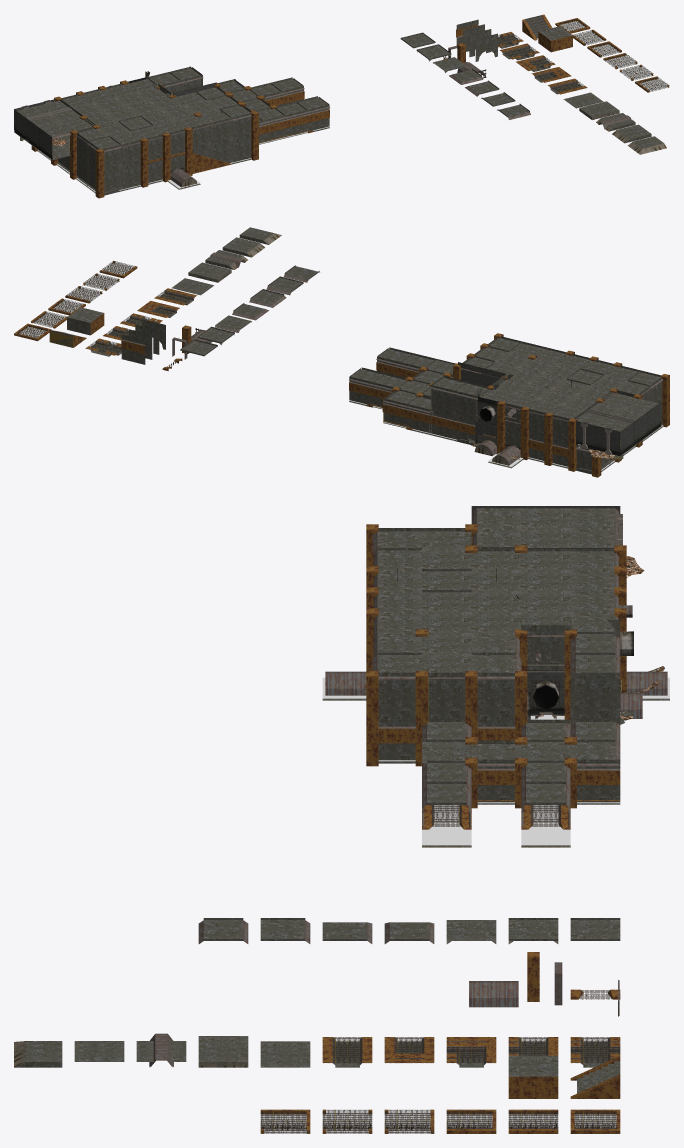
File: ModularSewerKit.fbx_Scene_Scene_Collection.fbx
3 views of the same model, one above another, from view 1: azimuth 30°, elevation 25°; view 2: azimuth 150°, elevation 25°; view 3: azimuth 270°, elevation 25° (orthographic). The views are drawn at different scales.
Visible parts, largest first — view 1: Floor011.001, Wall001.027, Wall002.026, Wall002.023, Wall002.025, Stairs001.001, Wall001.037, Wall001.021, Wall001.041, Wall001.020, Wall003.001, Wall001.028 (+40 smaller); view 2: Floor011.001, Wall002.001, Wall002.008, Wall002.016, Wall002.029, Wall001.011, Wall002.018, Wall001.010, Wall004.011, Wall002.007, Ceiling003.001, Ceiling002.001 (+20 smaller); view 3: Wall001.012, Floor011.001, Wall002.017, Wall002.006, Wall001.014, Wall001.018, Wall001.017, Wall001.019, Wall002.011, Stairs001.001, Floor009.001, PlugWall003.001 (+67 smaller).
Part boxes in pixels (bbox=[...]): Floor011.001: bbox=[538, 26, 572, 52]; Wall001.027: bbox=[209, 117, 231, 145]; Wall002.026: bbox=[263, 115, 285, 143]; Wall002.023: bbox=[285, 110, 307, 138]; Wall002.025: bbox=[307, 104, 329, 132]; Stairs001.001: bbox=[522, 14, 552, 40]; Wall001.037: bbox=[121, 163, 140, 190]; Wall001.021: bbox=[232, 136, 251, 163]; Wall001.041: bbox=[121, 140, 140, 167]; Wall001.020: bbox=[232, 113, 251, 140]; Wall003.001: bbox=[475, 33, 497, 61]; Wall001.028: bbox=[191, 123, 209, 149]; Floor011.001: bbox=[67, 307, 104, 335]; Wall002.001: bbox=[121, 334, 145, 364]; Wall002.008: bbox=[430, 410, 454, 440]; Wall002.016: bbox=[382, 398, 406, 428]; Wall002.029: bbox=[349, 376, 373, 406]; Wall001.011: bbox=[431, 385, 454, 415]; Wall002.018: bbox=[406, 404, 430, 434]; Wall001.010: bbox=[454, 391, 477, 420]; Wall004.011: bbox=[596, 426, 620, 455]; Wall002.007: bbox=[454, 415, 477, 441]; Ceiling003.001: bbox=[249, 289, 286, 307]; Ceiling002.001: bbox=[266, 276, 303, 295]; Wall001.012: bbox=[570, 672, 620, 717]; Floor011.001: bbox=[508, 1055, 558, 1098]; Wall002.017: bbox=[577, 759, 620, 804]; Wall002.006: bbox=[378, 717, 415, 762]; Wall001.014: bbox=[521, 625, 570, 669]; Wall001.018: bbox=[428, 672, 465, 717]; Wall001.017: bbox=[477, 672, 514, 717]; Wall001.019: bbox=[378, 672, 415, 717]; Wall002.011: bbox=[477, 759, 514, 804]; Stairs001.001: bbox=[570, 1056, 620, 1098]; Floor009.001: bbox=[198, 1041, 248, 1067]; PlugWall003.001: bbox=[469, 981, 518, 1007].
Size of the model in its own units: 10200 by 1050 by 5290.
